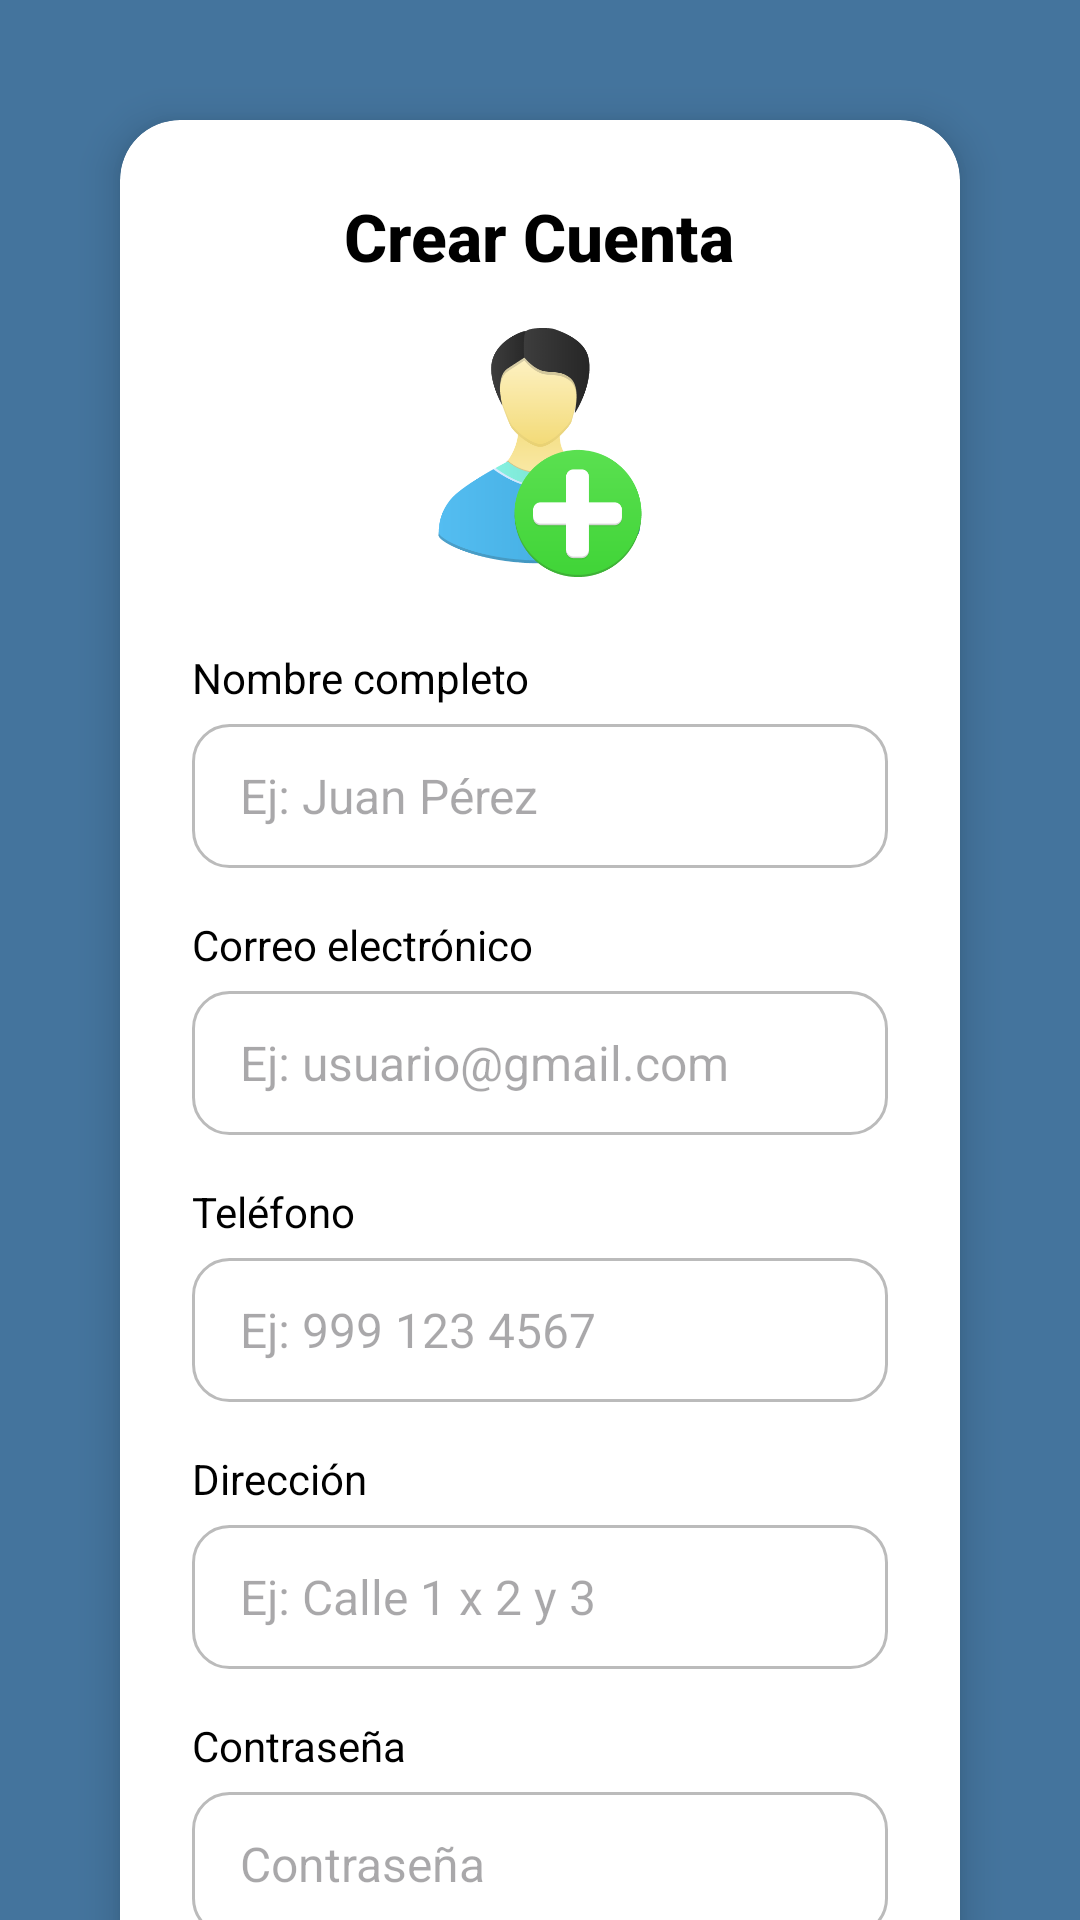

Icons on this 1080x1920 Android screen, each with its box as (left=x1, top=y1, right=x2, bottom=y2):
Imagen de usuario: (left=438, top=328, right=642, bottom=577)
